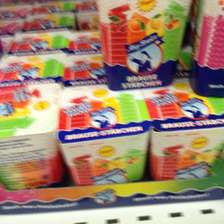candy: (62, 83, 148, 191), (144, 82, 221, 188), (100, 2, 186, 92), (1, 87, 63, 190), (190, 1, 224, 88)
